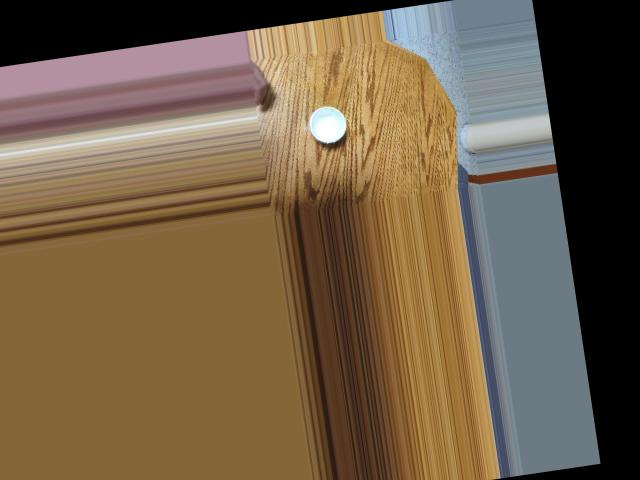cotage: (301, 99, 349, 145)
